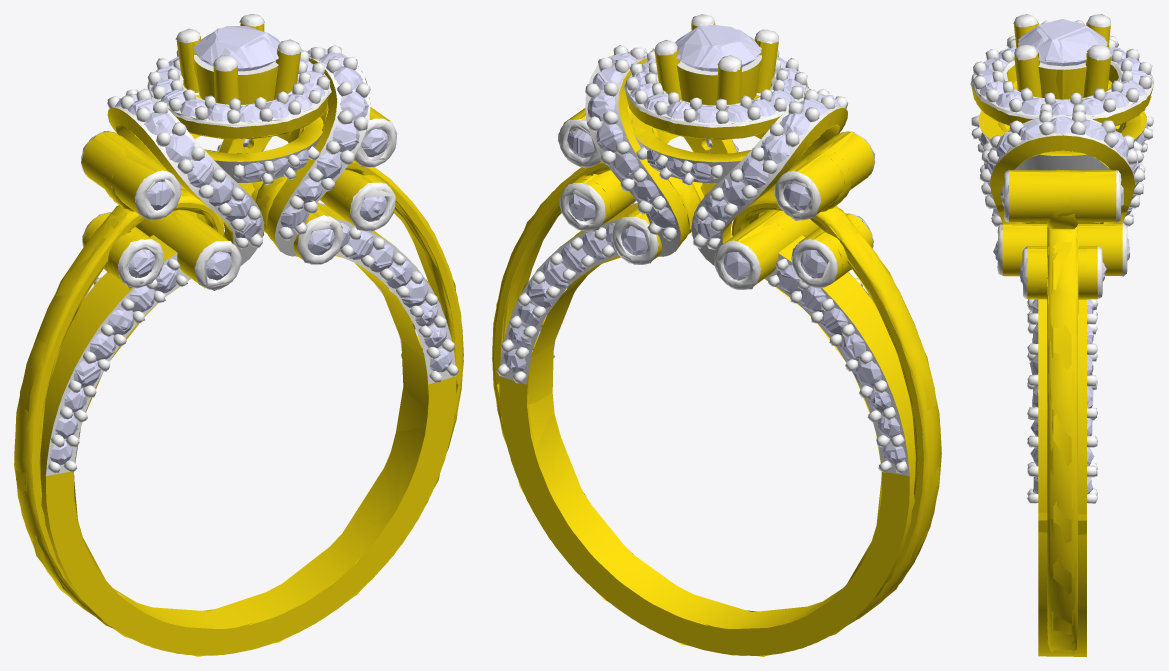
Rendered from DLR-D000640321.glb.
The picture shows the model from 3 angles, left to right: view 1: azimuth 30°, elevation 25°; view 2: azimuth 150°, elevation 25°; view 3: azimuth 270°, elevation 25°; orthographic projection.
Visible parts, largest first — view 1: highPolyMesh, lowPolyMesh; view 2: highPolyMesh, lowPolyMesh; view 3: highPolyMesh, lowPolyMesh.
Boxes of the visible parts, left/top/right/bottom form: highPolyMesh: left=14, top=14, right=463, bottom=655; lowPolyMesh: left=14, top=14, right=463, bottom=656; highPolyMesh: left=492, top=14, right=941, bottom=655; lowPolyMesh: left=492, top=14, right=940, bottom=656; highPolyMesh: left=971, top=14, right=1153, bottom=653; lowPolyMesh: left=970, top=14, right=1154, bottom=656.
Size of the model in its own units: 0.0213 by 0.0281 by 0.00775.
